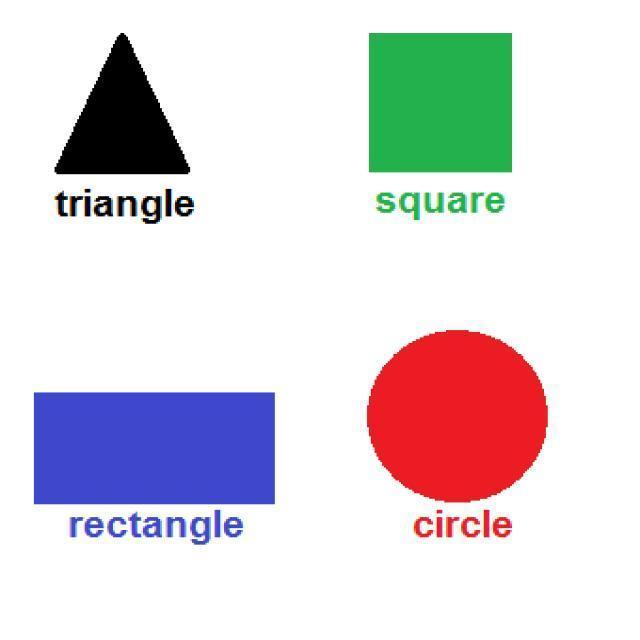circle: (334, 296, 570, 524)
square: (10, 363, 306, 531), (336, 15, 536, 206)
triangle: (18, 22, 222, 190)
